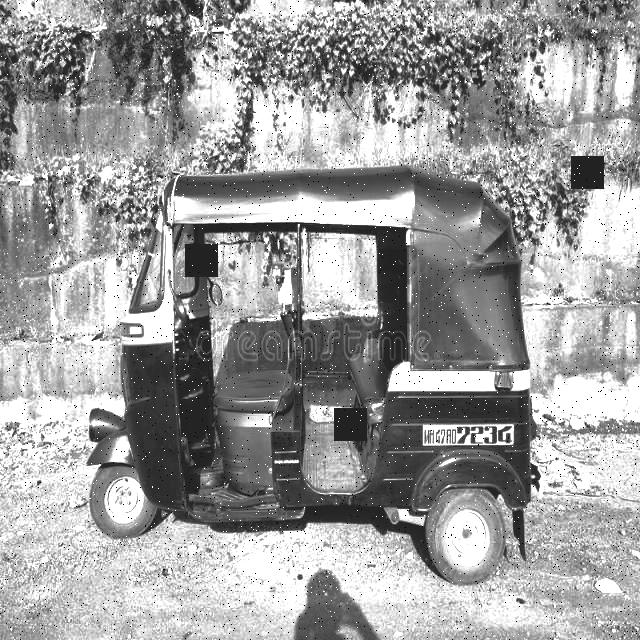Auto-Rickshaw: (75, 153, 544, 595)
